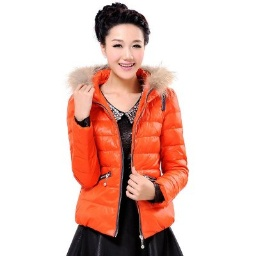face: (95, 2, 152, 80)
